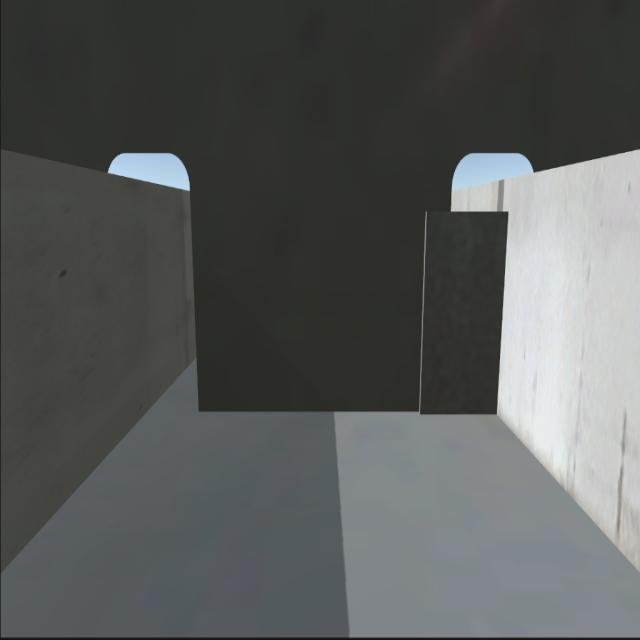fillet_yong_jeop_jang: (198, 404, 500, 418)
longi_yong_jeop_jang: (498, 216, 514, 425)
plate_CP01: (424, 213, 504, 404)
